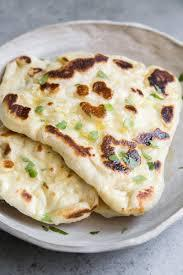Naan: (0, 29, 183, 254)
